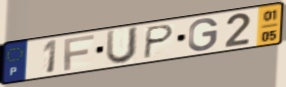1: (41, 38, 58, 76)
2: (223, 11, 255, 50)
F: (62, 33, 96, 72)
G: (187, 17, 220, 53)
P: (141, 23, 176, 61)
U: (104, 25, 141, 66)
